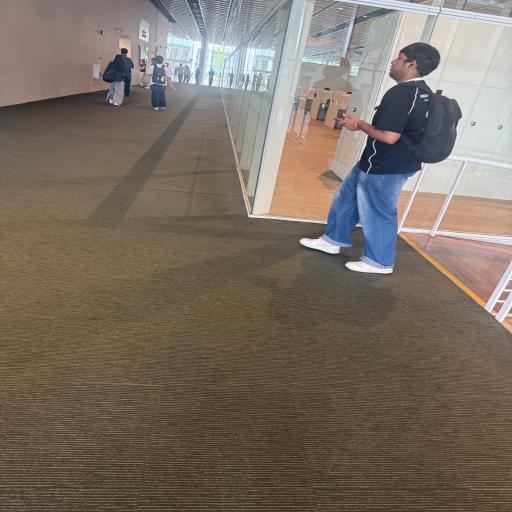person_left: (300, 43, 464, 276)
